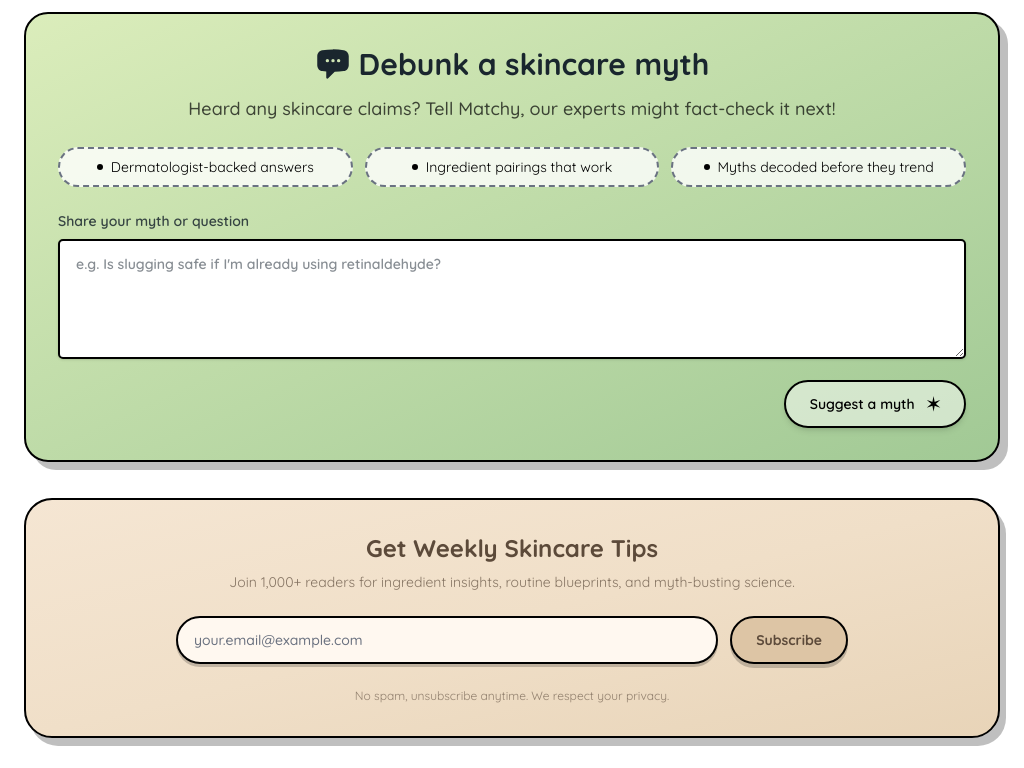
it: AskExpertCTA myth submission › shows an error when the textarea is empty
The width and height of the screenshot is (1024, 768).
Click the button "Suggest a myth ✶".
click(875, 404)  # box [784,380,966,428]
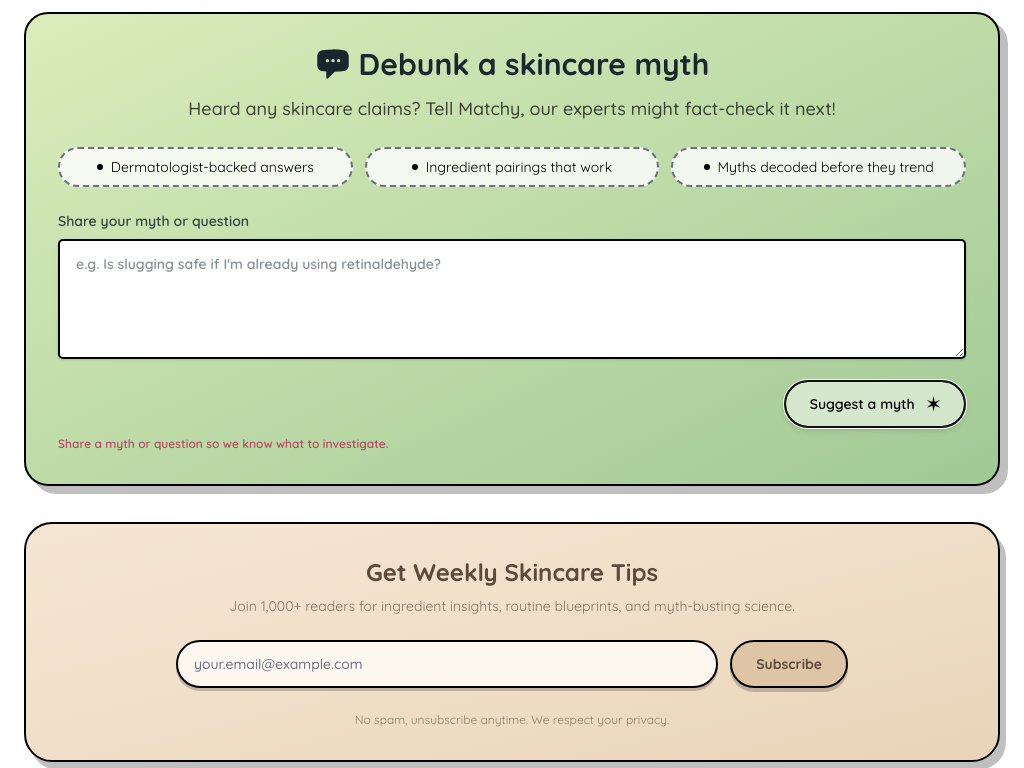
Expected: the text "Share a myth or question so we know what to investigate." is shown, [58,436,388,451]
